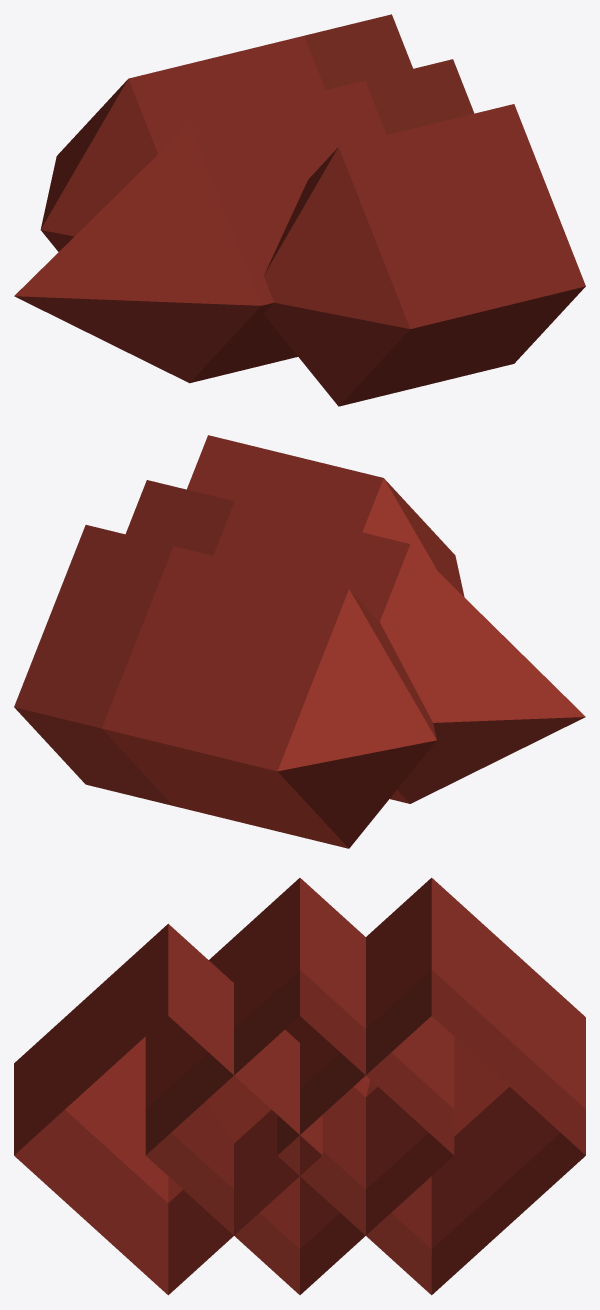
File: signalite_spike_butt.obj
3 views of the same model, one above another, from view 1: azimuth 30°, elevation 25°; view 2: azimuth 150°, elevation 25°; view 3: azimuth 270°, elevation 25° (orthographic). The views are drawn at different scales.
Visible parts, largest first — view 1: SPIKE_BUTT_Cube.021; view 2: SPIKE_BUTT_Cube.021; view 3: SPIKE_BUTT_Cube.021.
Boxes of the visible parts, bbox=[...] form: SPIKE_BUTT_Cube.021: bbox=[14, 14, 585, 406]; SPIKE_BUTT_Cube.021: bbox=[14, 435, 585, 848]; SPIKE_BUTT_Cube.021: bbox=[14, 877, 585, 1295].
Size of the model in its own units: 0.1562 by 0.0884 by 0.1638.
